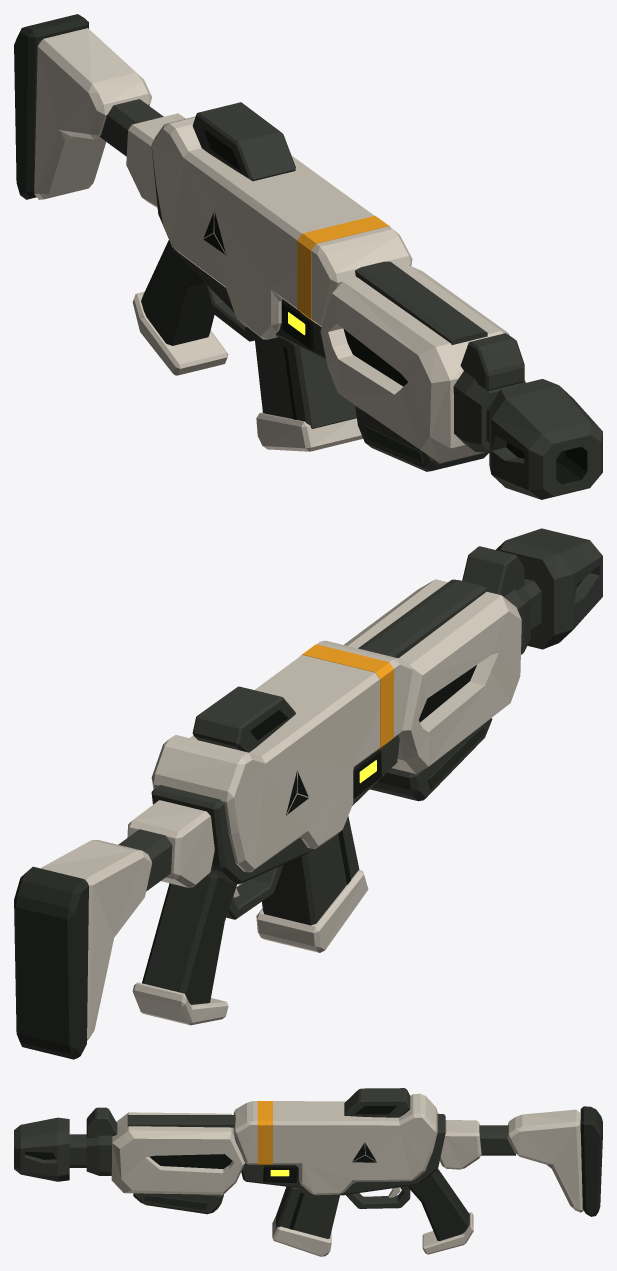
The model's file is sector-trooper-rifle.glb.
3 views of the same model, one above another, from view 1: azimuth 30°, elevation 25°; view 2: azimuth 150°, elevation 25°; view 3: azimuth 270°, elevation 25° (orthographic). The views are drawn at different scales.
Visible parts, largest first — view 1: RIFLE | 06 faceted receiver shell, RIFLE | 12 recessed foreguard shell, RIFLE | 02 tapered ivory stock, RIFLE | 31 hollow faceted muzzle, RIFLE | 20 power cell, RIFLE | 24 low sight housing, RIFLE | 16 pistol grip, RIFLE | 01 buttpad, RIFLE | 26 upper foreguard spine, RIFLE | 21 ivory power-cell foot, RIFLE | 29 forward sight, RIFLE | 17 ivory grip heel (+10 smaller); view 2: RIFLE | 06 faceted receiver shell, RIFLE | 12 recessed foreguard shell, RIFLE | 01 buttpad, RIFLE | 16 pistol grip, RIFLE | 02 tapered ivory stock, RIFLE | 31 hollow faceted muzzle, RIFLE | 20 power cell, RIFLE | 04 stock connector cover, RIFLE | 05 receiver dark chassis, RIFLE | 24 low sight housing, RIFLE | 26 upper foreguard spine, RIFLE | 21 ivory power-cell foot (+10 smaller); view 3: RIFLE | 06 faceted receiver shell, RIFLE | 12 recessed foreguard shell, RIFLE | 02 tapered ivory stock, RIFLE | 31 hollow faceted muzzle, RIFLE | 16 pistol grip, RIFLE | 20 power cell, RIFLE | 01 buttpad, RIFLE | 05 receiver dark chassis, RIFLE | 04 stock connector cover, RIFLE | 24 low sight housing, RIFLE | 26 upper foreguard spine, RIFLE | 21 ivory power-cell foot (+13 smaller).
Part boxes in pixels (x1,y1,x2,y2): RIFLE | 06 faceted receiver shell: (151, 116, 412, 339); RIFLE | 12 recessed foreguard shell: (320, 265, 509, 463); RIFLE | 02 tapered ivory stock: (34, 28, 152, 199); RIFLE | 31 hollow faceted muzzle: (489, 379, 602, 499); RIFLE | 20 power cell: (254, 332, 356, 428); RIFLE | 24 low sight housing: (192, 102, 295, 181); RIFLE | 16 pistol grip: (141, 240, 214, 345); RIFLE | 01 buttpad: (14, 14, 88, 199); RIFLE | 26 upper foreguard spine: (355, 261, 487, 344); RIFLE | 21 ivory power-cell foot: (256, 412, 362, 451); RIFLE | 29 forward sight: (460, 333, 524, 390); RIFLE | 17 ivory grip heel: (132, 291, 228, 375); RIFLE | 06 faceted receiver shell: (151, 640, 412, 872); RIFLE | 12 recessed foreguard shell: (344, 579, 521, 773); RIFLE | 01 buttpad: (14, 866, 88, 1059); RIFLE | 16 pistol grip: (142, 872, 237, 1004); RIFLE | 02 tapered ivory stock: (41, 840, 151, 1040); RIFLE | 31 hollow faceted muzzle: (496, 528, 602, 649); RIFLE | 20 power cell: (262, 816, 359, 925); RIFLE | 04 stock connector cover: (127, 800, 214, 887); RIFLE | 05 receiver dark chassis: (151, 735, 399, 884); RIFLE | 24 low sight housing: (192, 686, 295, 752); RIFLE | 26 upper foreguard spine: (358, 579, 487, 658); RIFLE | 21 ivory power-cell foot: (256, 870, 368, 952); RIFLE | 06 faceted receiver shell: (233, 1093, 437, 1195); RIFLE | 12 recessed foreguard shell: (111, 1112, 245, 1194); RIFLE | 02 tapered ivory stock: (507, 1109, 583, 1212); RIFLE | 31 hollow faceted muzzle: (14, 1117, 69, 1181); RIFLE | 16 pistol grip: (407, 1168, 469, 1240); RIFLE | 20 power cell: (276, 1186, 339, 1238); RIFLE | 01 buttpad: (580, 1106, 602, 1216); RIFLE | 05 receiver dark chassis: (234, 1113, 445, 1195); RIFLE | 04 stock connector cover: (440, 1120, 481, 1169); RIFLE | 24 low sight housing: (344, 1088, 410, 1117); RIFLE | 26 upper foreguard spine: (127, 1115, 235, 1127); RIFLE | 21 ivory power-cell foot: (272, 1216, 331, 1256).
Size of the model in its own units: 0.0965 by 0.285 by 0.979.
